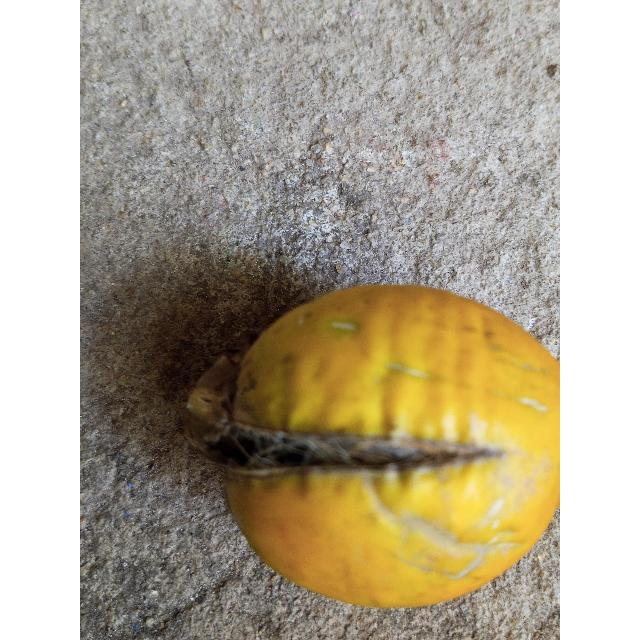damaged: (186, 285, 560, 607)
